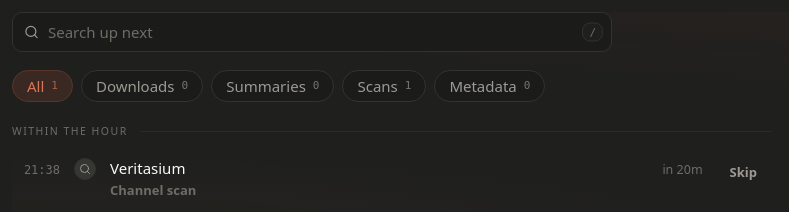
Test: UpNext skip › leaves an undo on the skipped row and restores the exact instant
Click the button "Skip" at point(743, 173), box 717,157 -> 770,189
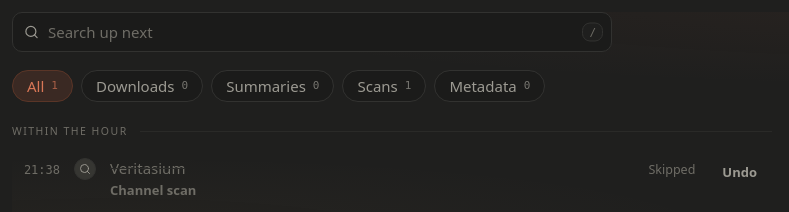
Check: the text "Veritasium" is shown, box 110,158 -> 185,178
Check: the text "Skipped" is shown, box 648,157 -> 695,180
Click the button "Undo" at point(740, 173), box 709,157 -> 770,189
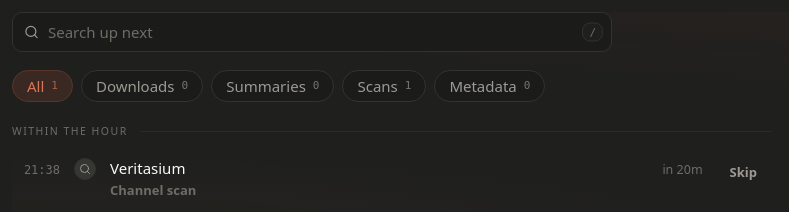
Check: the button "Undo" is gone
